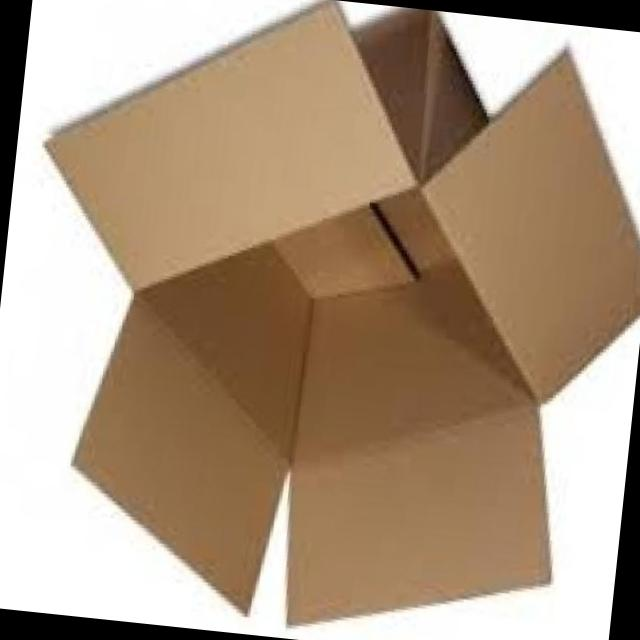cardboard paper: (46, 4, 640, 626)
